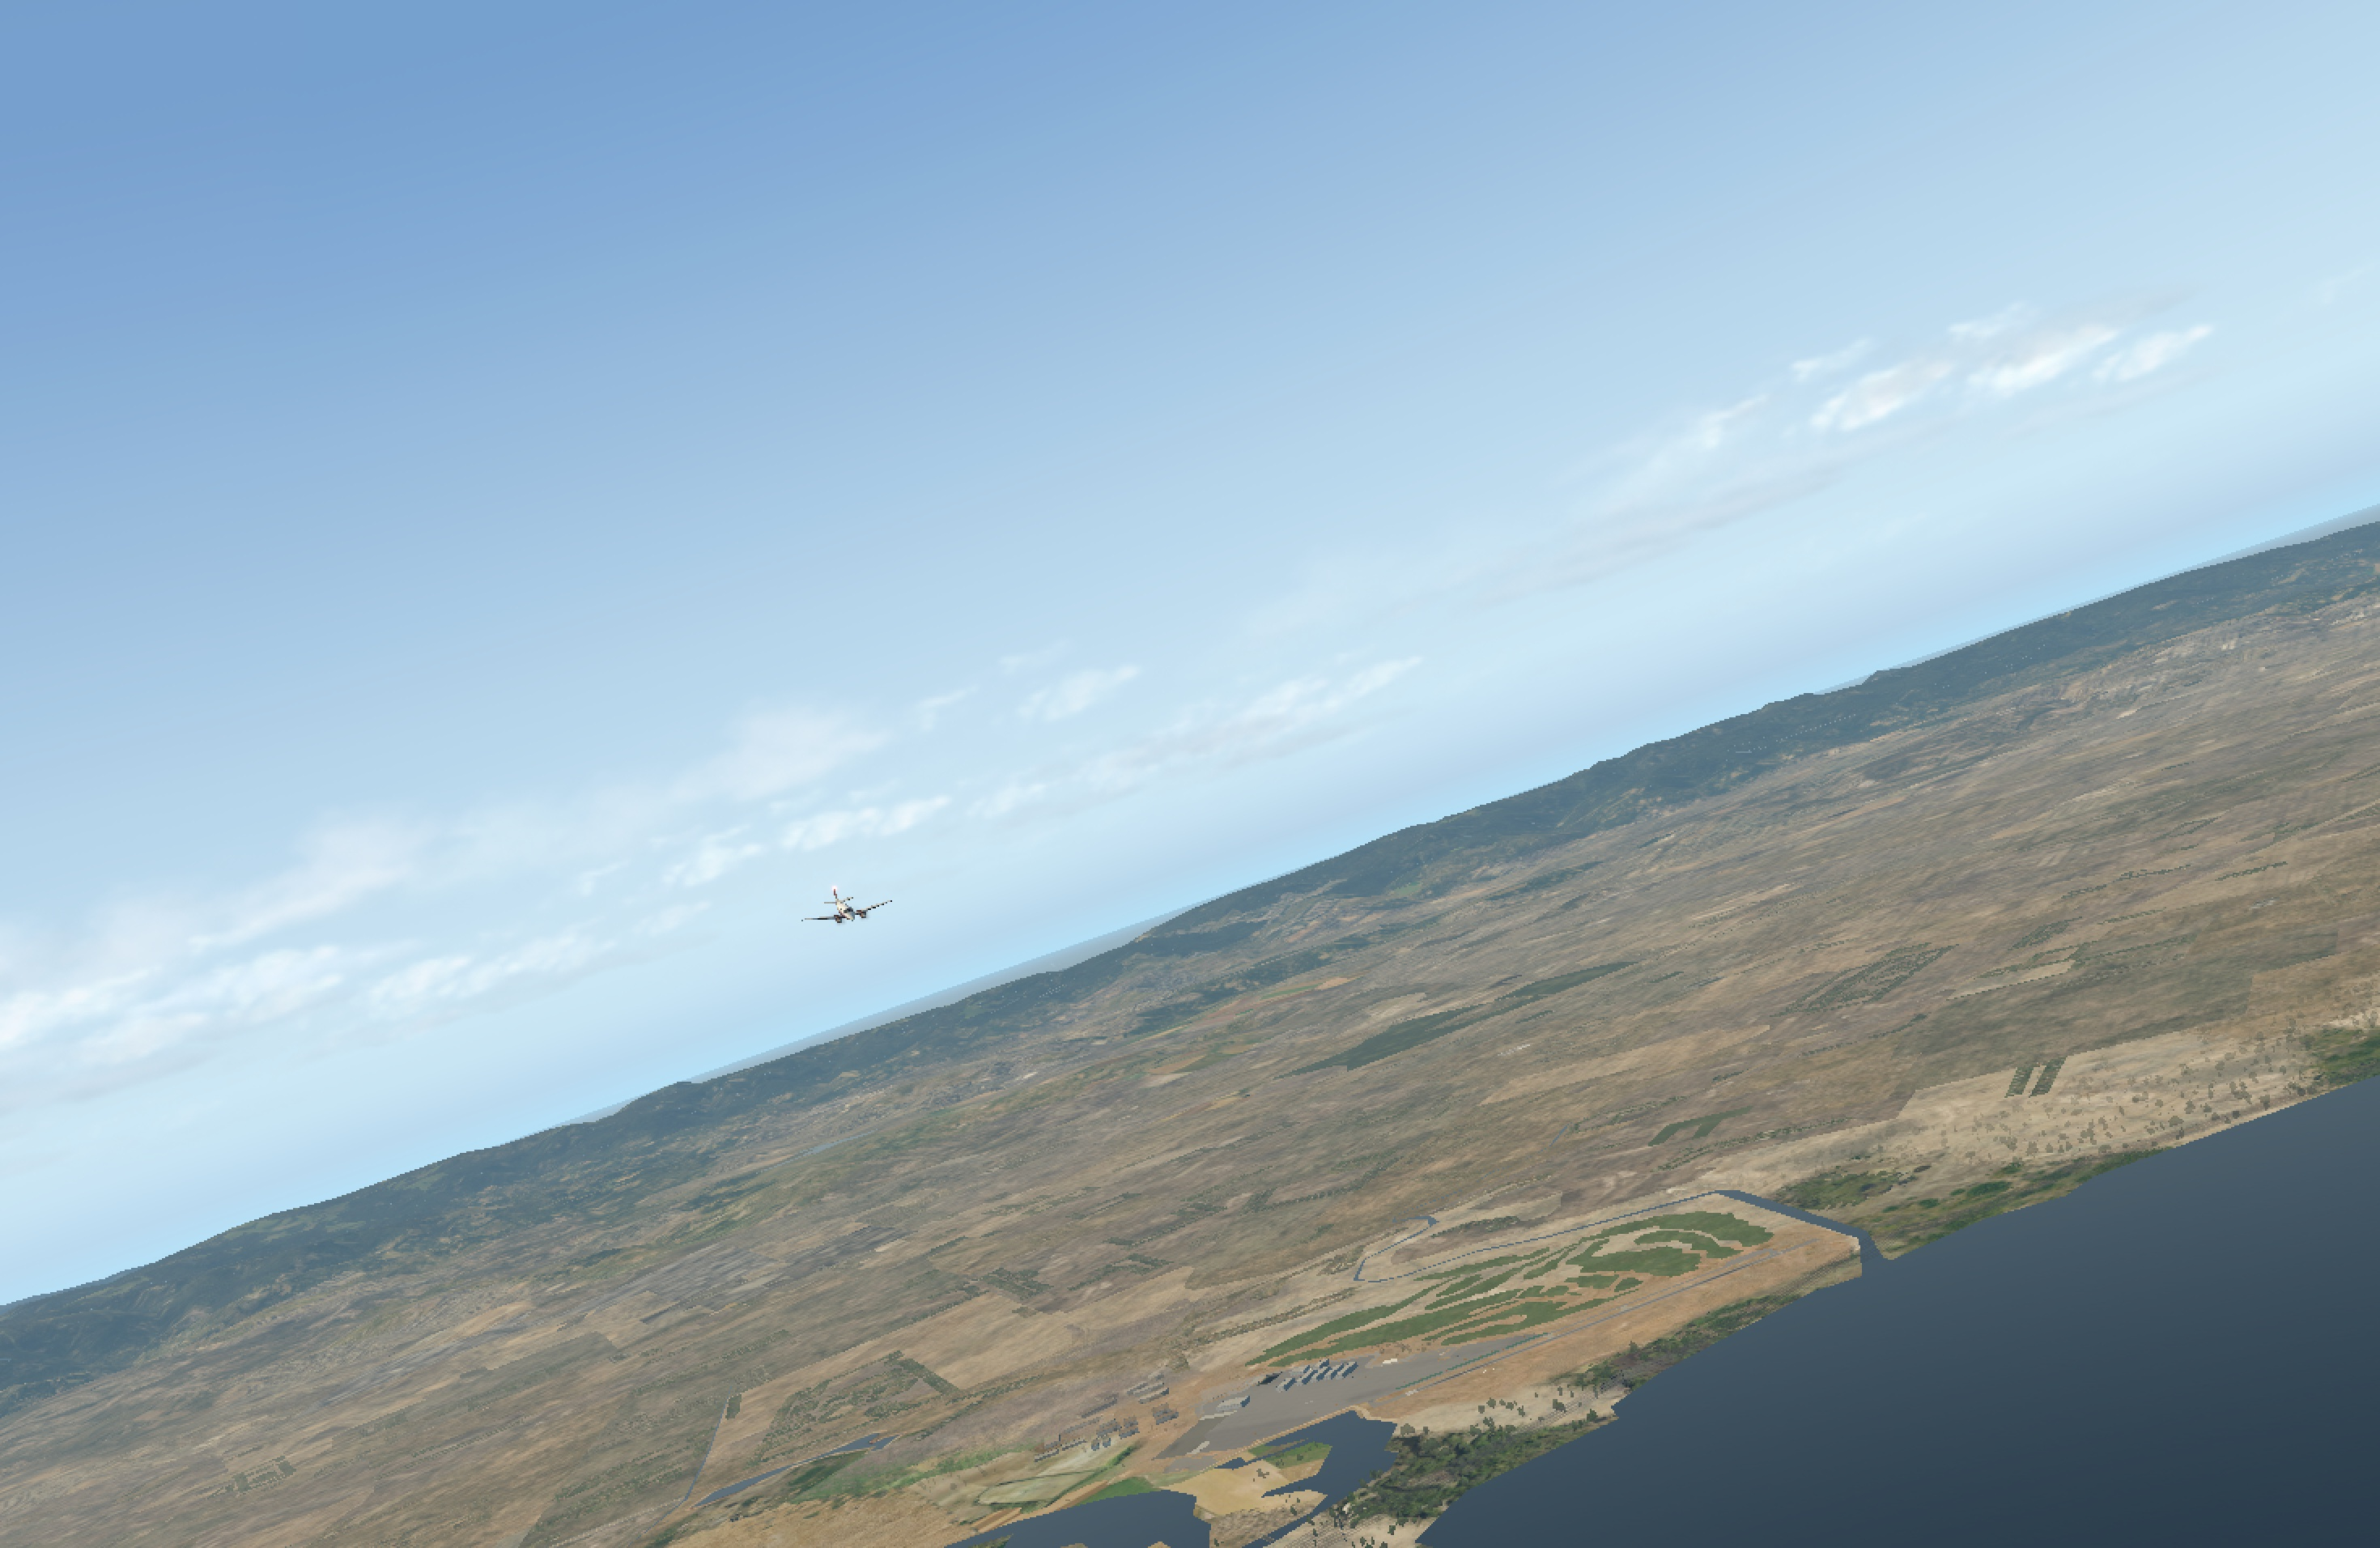aircraft: (800, 899, 897, 934)
